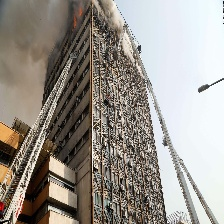fire: (71, 7, 83, 25)
smoke: (8, 1, 68, 75), (101, 1, 139, 60)
